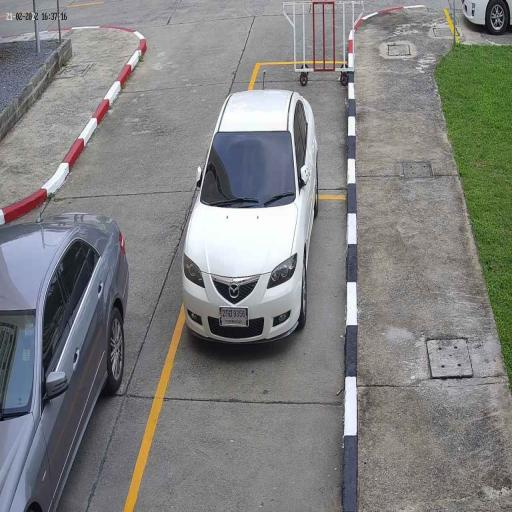car: (0, 211, 131, 512), (181, 88, 319, 357)
